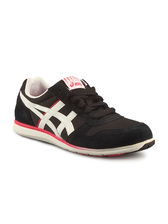shoes: (11, 70, 164, 158)
